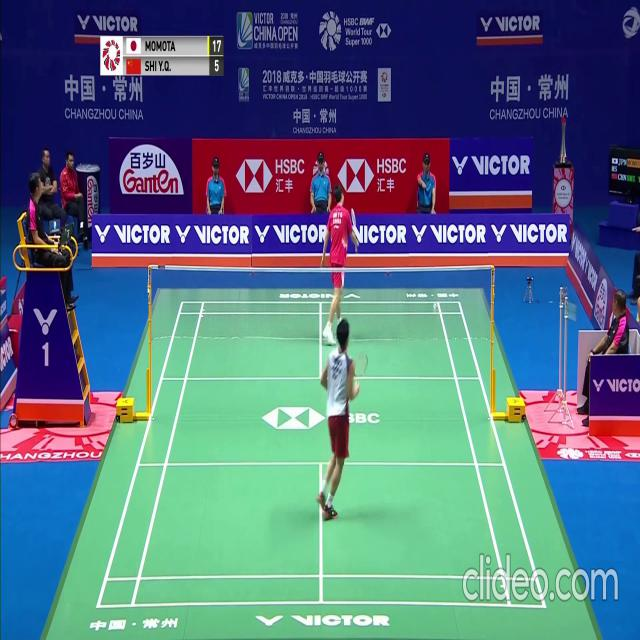Shuttlecock: (433, 303, 438, 310)
